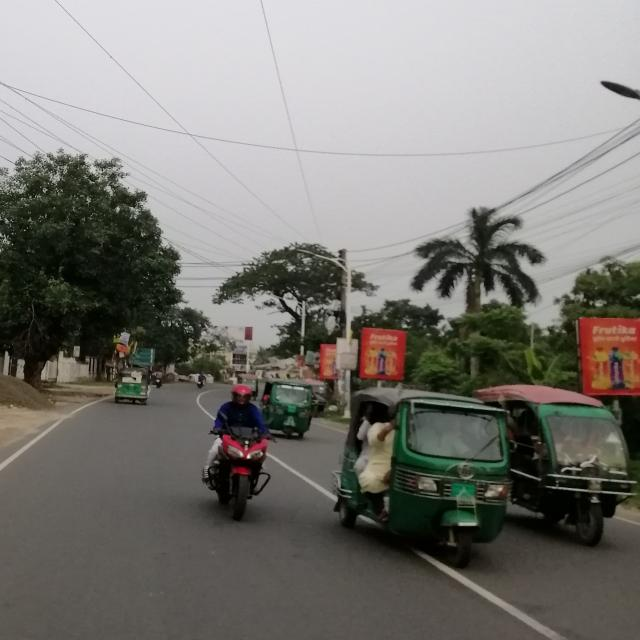Motorbike: (204, 413, 278, 524)
